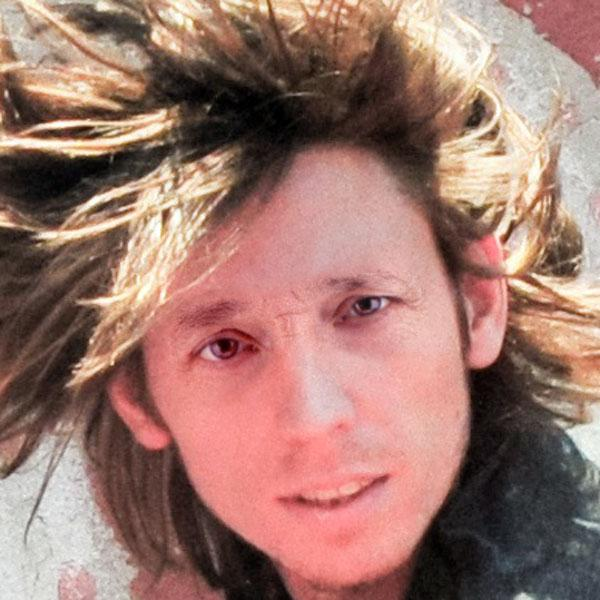Eyes: (183, 318, 270, 379), (322, 278, 416, 332)
